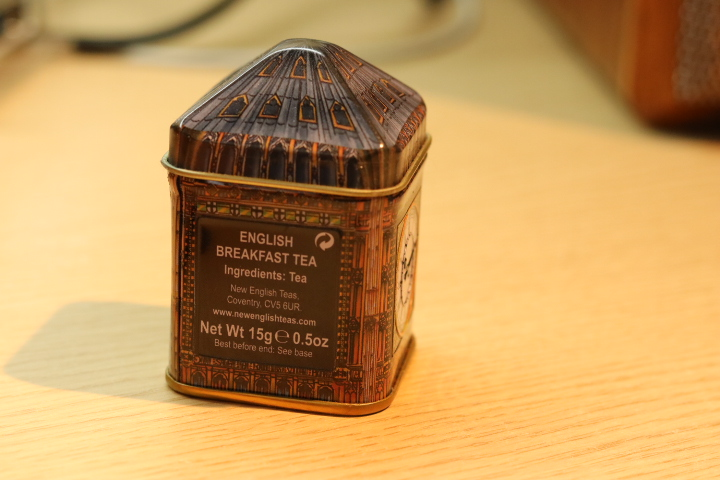Big Ben: (143, 29, 446, 435)
